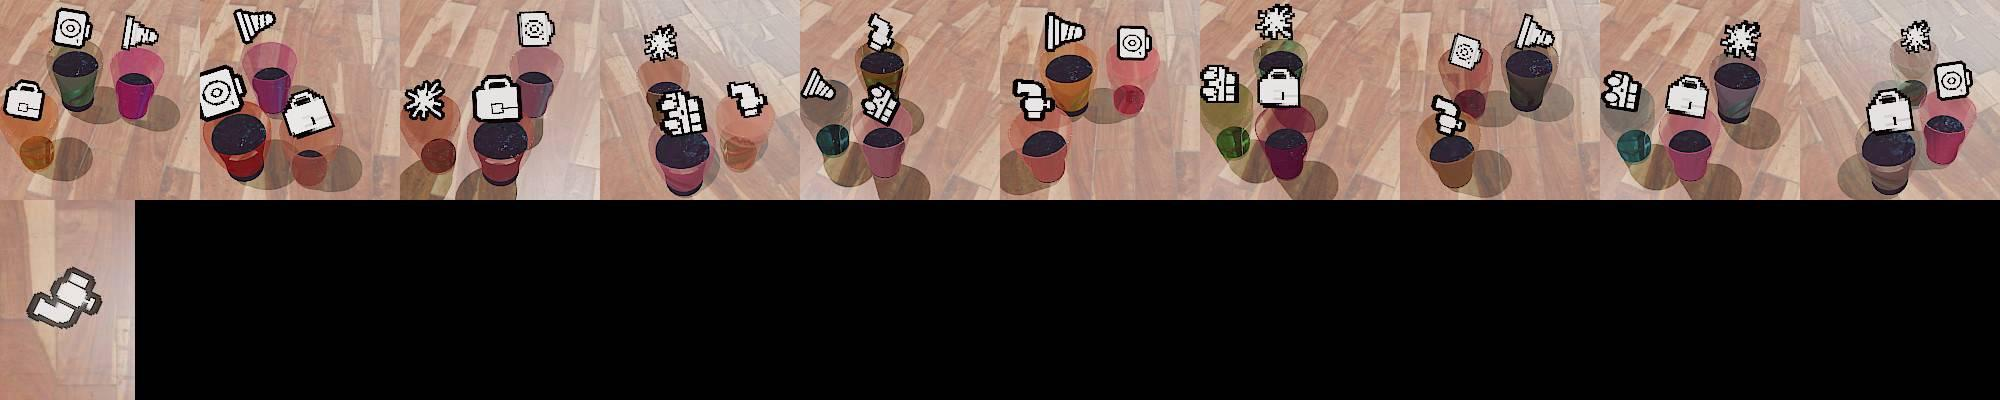icon: (24, 265, 103, 330), (198, 65, 247, 122), (282, 87, 335, 138), (653, 87, 705, 138), (472, 73, 522, 122), (1866, 87, 1916, 132), (1014, 74, 1059, 120), (1256, 64, 1302, 108), (403, 78, 448, 121), (1665, 74, 1708, 117), (3, 79, 45, 122), (1043, 11, 1085, 54), (726, 79, 769, 120), (52, 6, 93, 50), (1602, 69, 1643, 112), (860, 83, 901, 125), (1719, 19, 1761, 60), (1515, 13, 1556, 54), (1934, 61, 1973, 103), (1200, 62, 1239, 104), (232, 8, 276, 45), (1430, 93, 1466, 138), (1255, 3, 1296, 41), (643, 23, 679, 62), (120, 14, 159, 50), (1116, 24, 1152, 62), (1448, 33, 1483, 70), (801, 66, 837, 102), (866, 13, 897, 52), (519, 11, 554, 46), (1899, 20, 1931, 55)
